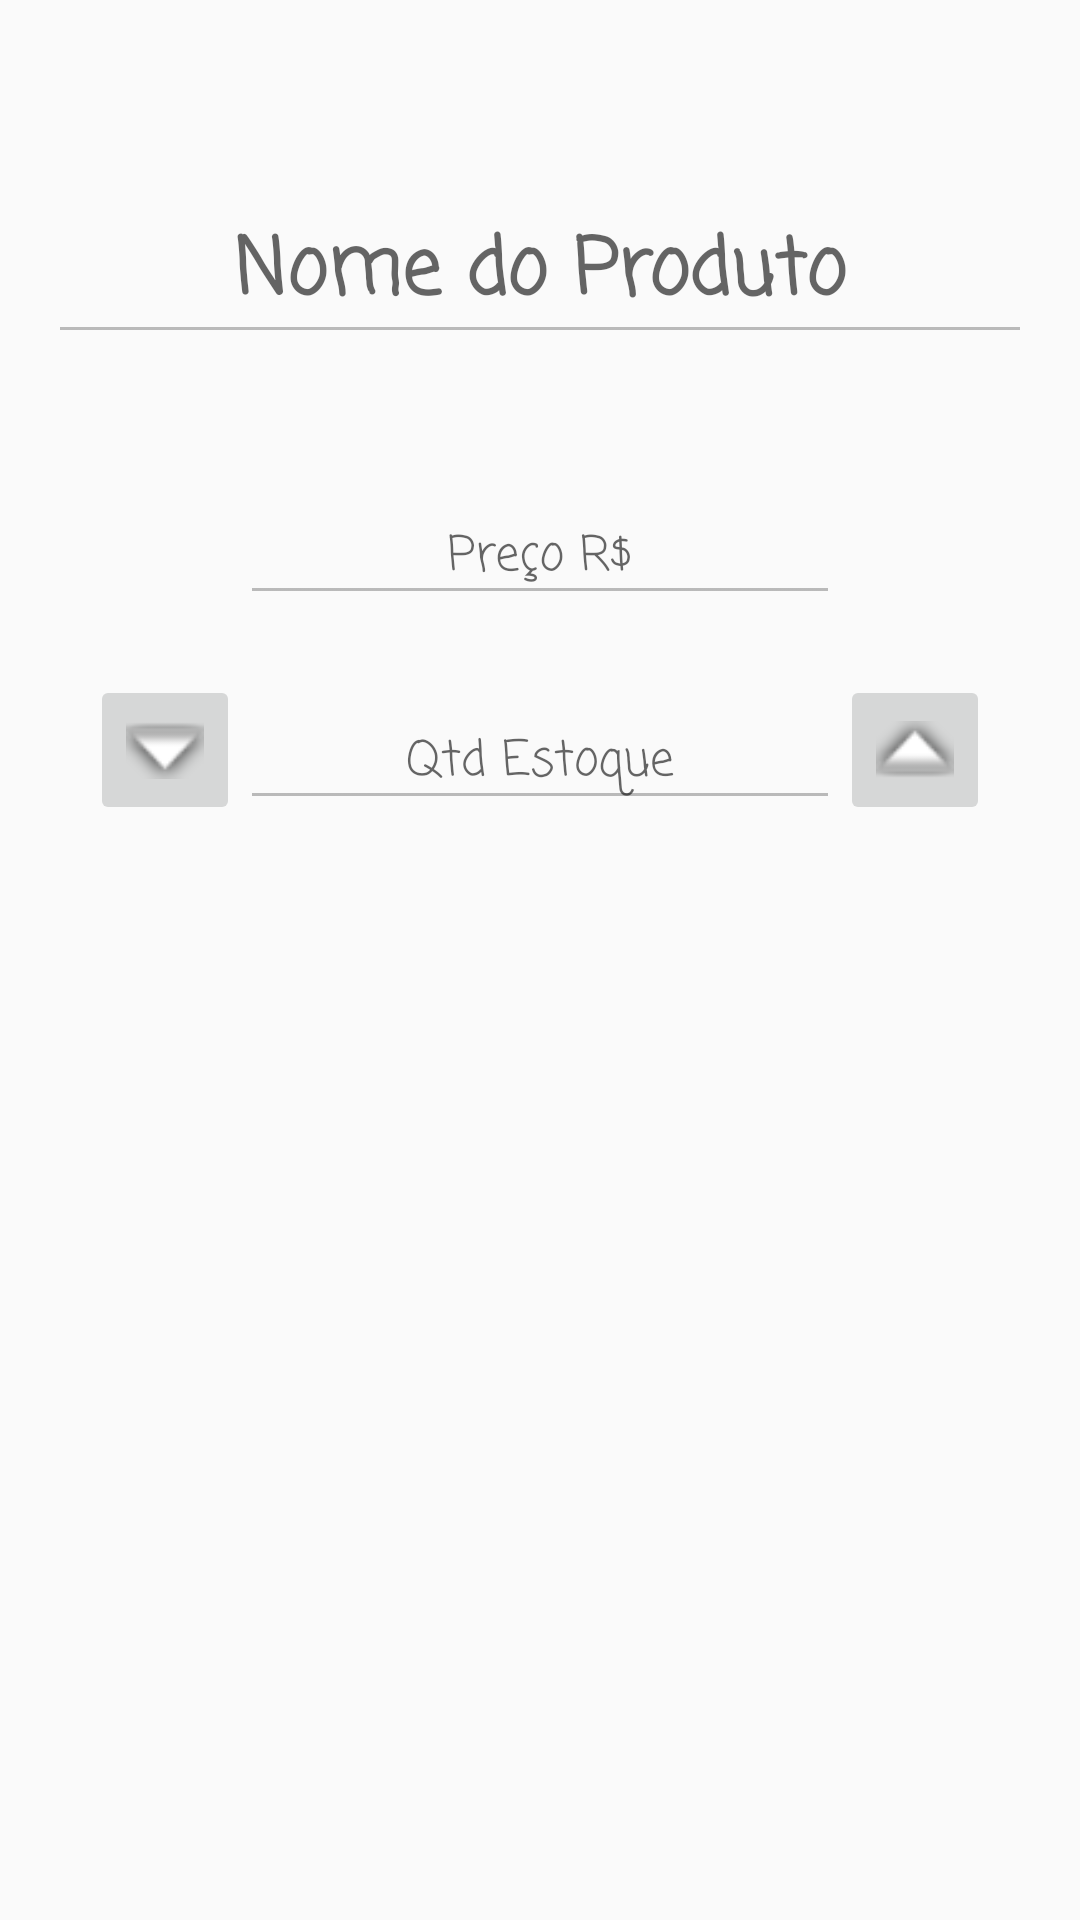

Locate icon controls on the screen. Image size 1080px×1920px, boxes as (x1, y1, x2, y2).
arrow down float: (102, 693, 228, 807)
arrow up float: (852, 693, 978, 807)
